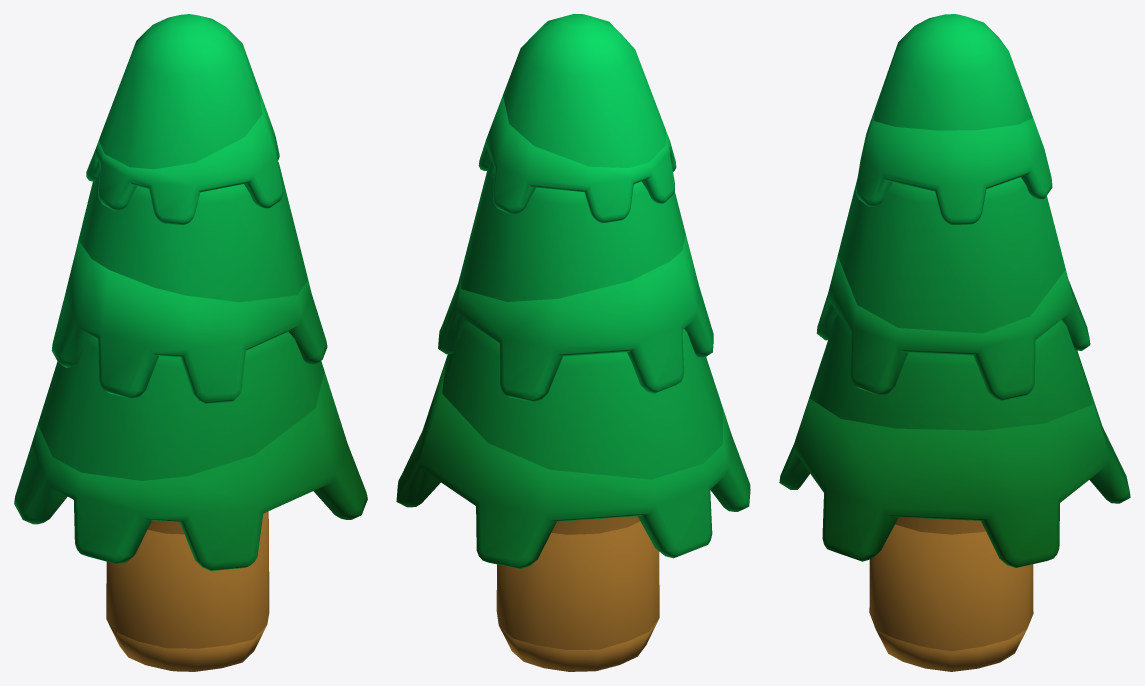
File: Trees.fbx
3 views of the same model, side by side, from view 1: azimuth 30°, elevation 25°; view 2: azimuth 150°, elevation 25°; view 3: azimuth 270°, elevation 25° (orthographic).
Visible parts, largest first — view 1: Cylinder.425, Cylinder.424, Cylinder.426, Cylinder.423, Cylinder.427, Cylinder.038; view 2: Cylinder.425, Cylinder.424, Cylinder.426, Cylinder.423, Cylinder.427, Cylinder.038; view 3: Cylinder.424, Cylinder.426, Cylinder.425, Cylinder.427, Cylinder.423, Cylinder.038.
Boxes of the visible parts, box(x1,y1,x2,y2) form: Cylinder.425: box(38, 240, 327, 480); Cylinder.424: box(78, 89, 308, 302); Cylinder.426: box(14, 372, 367, 570); Cylinder.423: box(99, 14, 262, 169); Cylinder.427: box(106, 511, 269, 648); Cylinder.038: box(107, 620, 266, 671); Cylinder.425: box(438, 233, 722, 479); Cylinder.424: box(461, 95, 685, 301); Cylinder.426: box(396, 359, 750, 568); Cylinder.423: box(503, 14, 666, 167); Cylinder.427: box(496, 521, 659, 649); Cylinder.038: box(499, 619, 658, 671); Cylinder.424: box(837, 111, 1065, 333); Cylinder.426: box(779, 389, 1130, 567); Cylinder.425: box(809, 247, 1092, 430); Cylinder.427: box(869, 524, 1033, 651); Cylinder.423: box(873, 14, 1032, 130); Cylinder.038: box(876, 629, 1026, 671).
Size of the model in its own units: 15.88 by 32.51 by 16.45.
